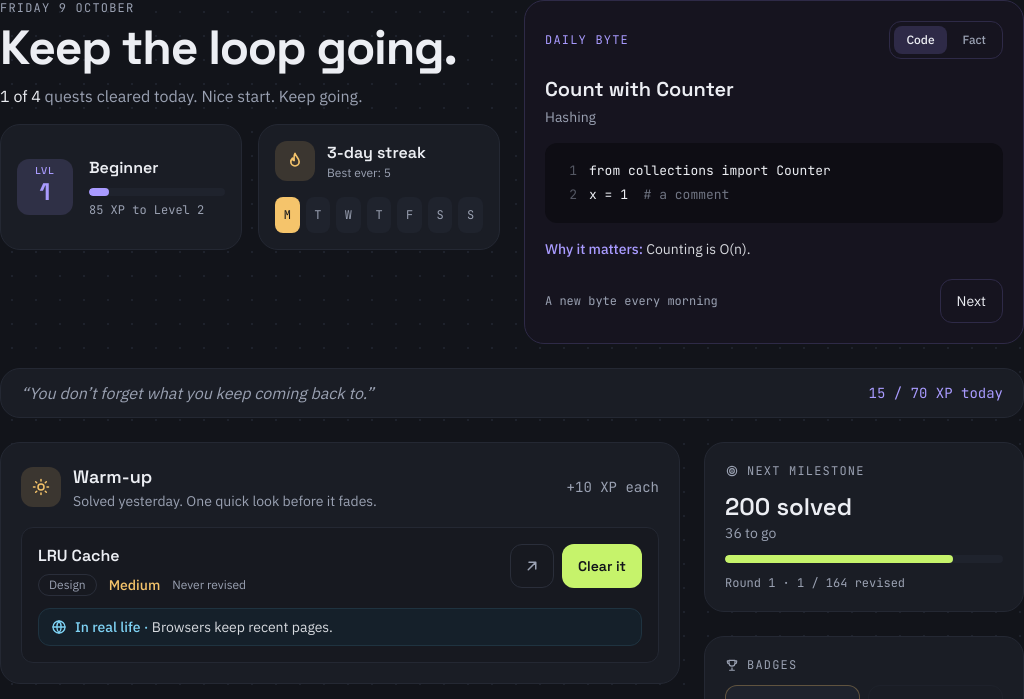
Test: Today page › Daily Byte: Next loads the next byte, Fact tab loads a fact
Expected: the heading "Count with Counter" is shown, [545, 76, 734, 102]
What coordinates should you click on to do the following:
click the button "Next"
I would click on:
 (971, 301)
Its box is [940, 279, 1003, 323].
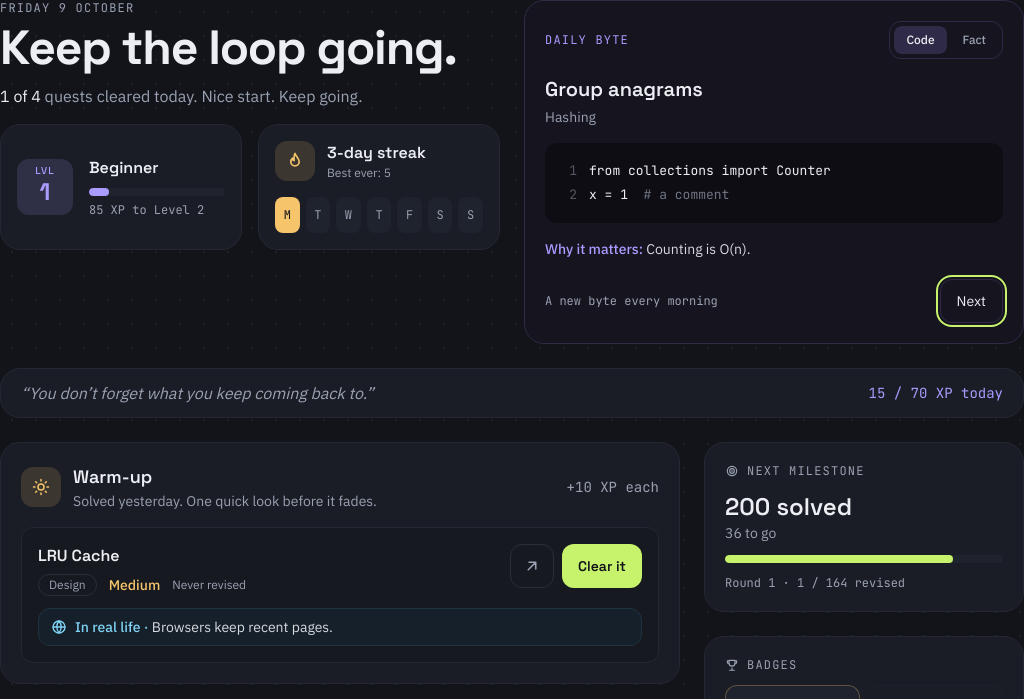
Expected: the heading "Group anagrams" is shown, [545, 76, 703, 102]
What coordinates should you click on to do the following:
click the tab "Fact"
I would click on:
 (974, 40)
Its box is [951, 26, 998, 54].
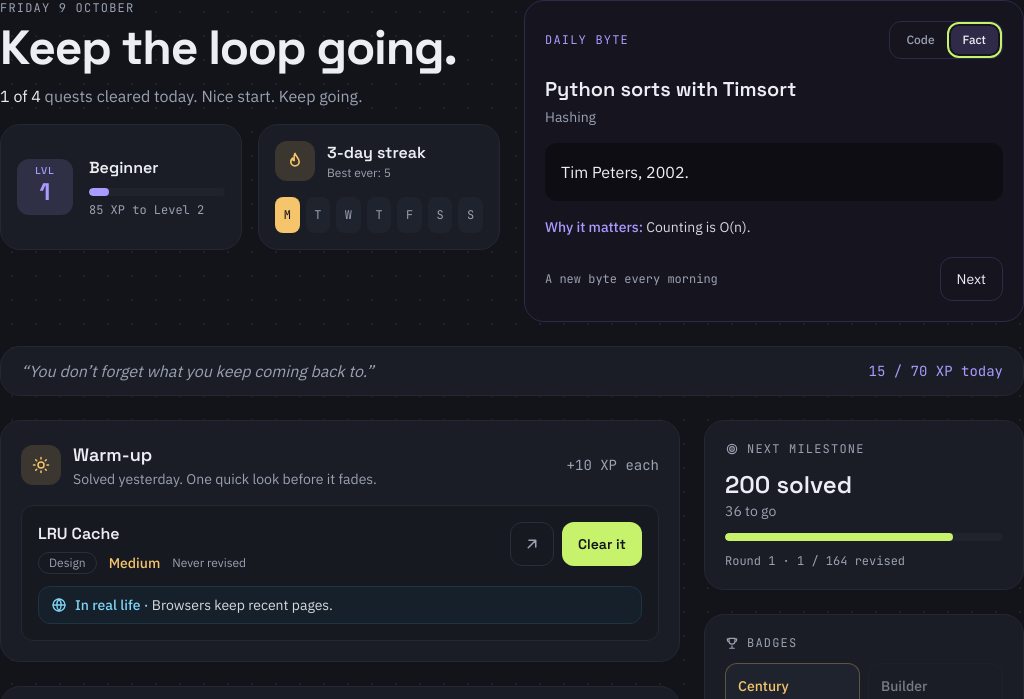
Expected: the heading "Python sorts with Timsort" is shown, [545, 76, 796, 102]
